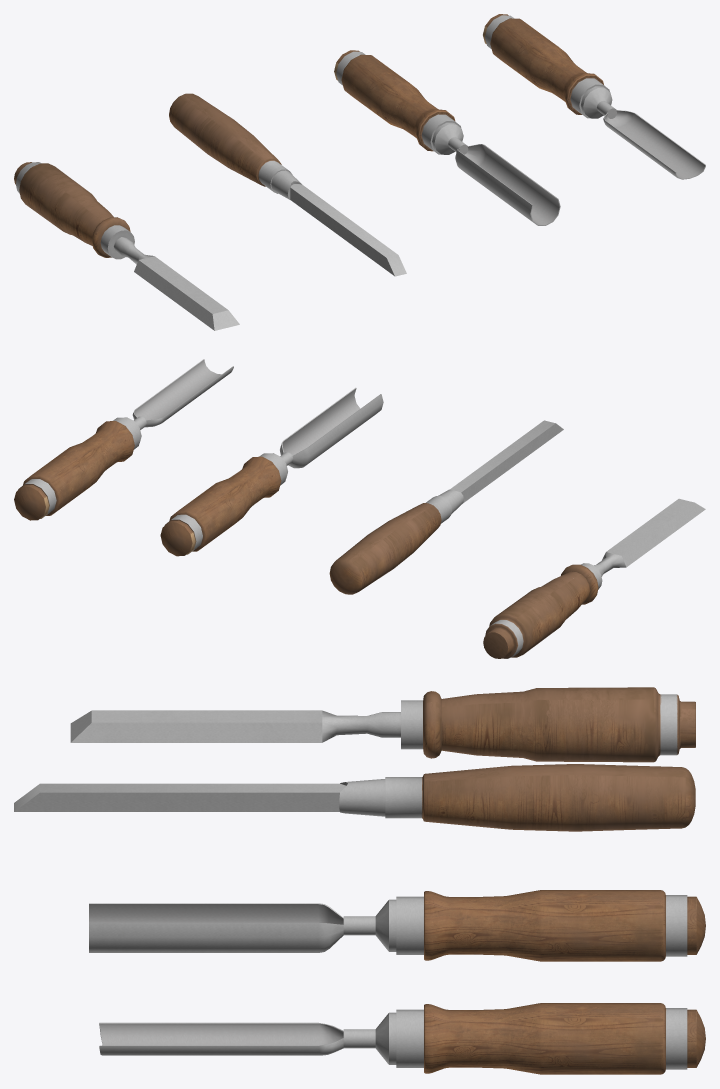
The model's file is daoju.fbx.
The picture shows the model from 3 angles, top to bottom: view 1: azimuth 30°, elevation 25°; view 2: azimuth 150°, elevation 25°; view 3: azimuth 270°, elevation 25°; orthographic projection. The views are drawn at different scales.
Parts seen in each view (by area): view 1: daoju01, daoju02, daoju04, daoju03; view 2: daoju01, daoju02, daoju04, daoju03; view 3: daoju01, daoju02, daoju04, daoju03.
Boxes of the visible parts, left/top/right/bottom form: daoju01: left=334, top=50, right=560, bottom=225; daoju02: left=483, top=14, right=705, bottom=179; daoju04: left=14, top=162, right=239, bottom=330; daoju03: left=169, top=93, right=406, bottom=276; daoju01: left=160, top=387, right=383, bottom=556; daoju02: left=14, top=359, right=233, bottom=520; daoju04: left=483, top=498, right=705, bottom=658; daoju03: left=329, top=420, right=563, bottom=594; daoju01: left=89, top=890, right=705, bottom=961; daoju02: left=99, top=1003, right=705, bottom=1074; daoju04: left=70, top=687, right=695, bottom=762; daoju03: left=14, top=764, right=695, bottom=831.
Size of the model in its own units: 91 by 12.15 by 68.2.
